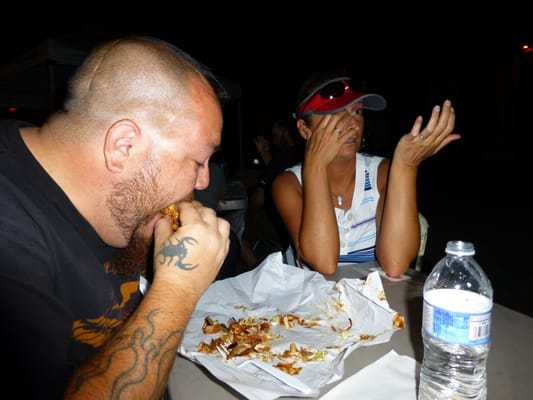curry: (35, 244, 532, 399)
